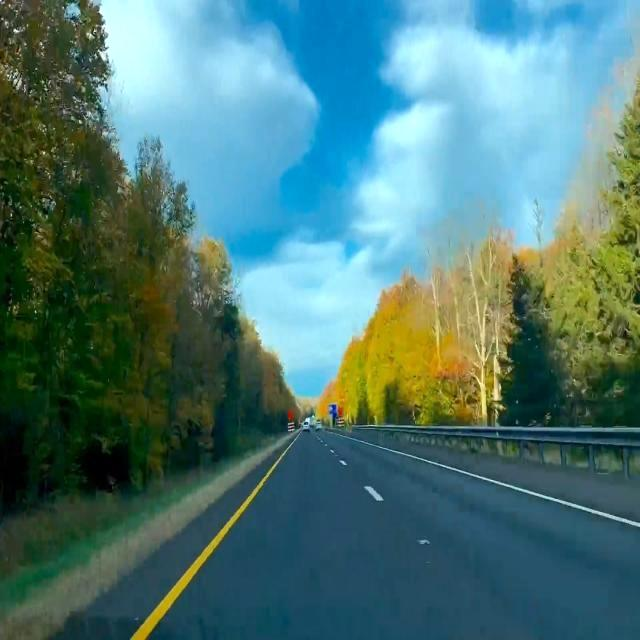lane: (128, 444, 291, 639), (334, 433, 640, 528), (365, 487, 383, 500)
road: (148, 429, 639, 639)
